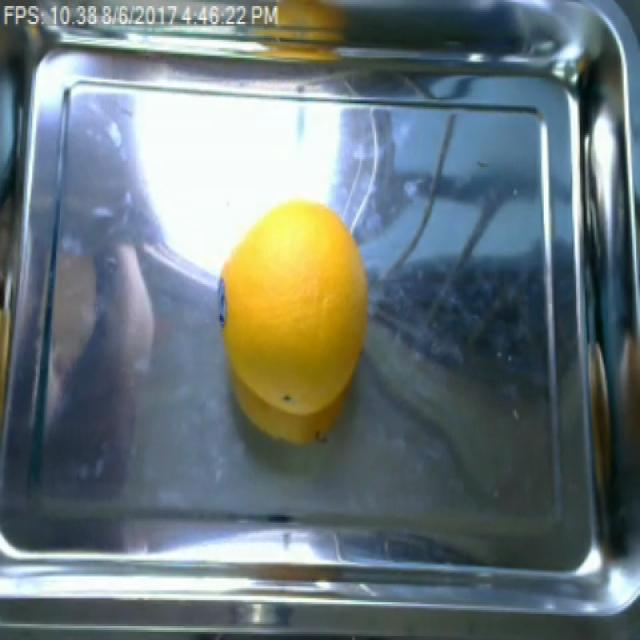Fruit: (216, 193, 373, 447), (268, 0, 353, 34)
